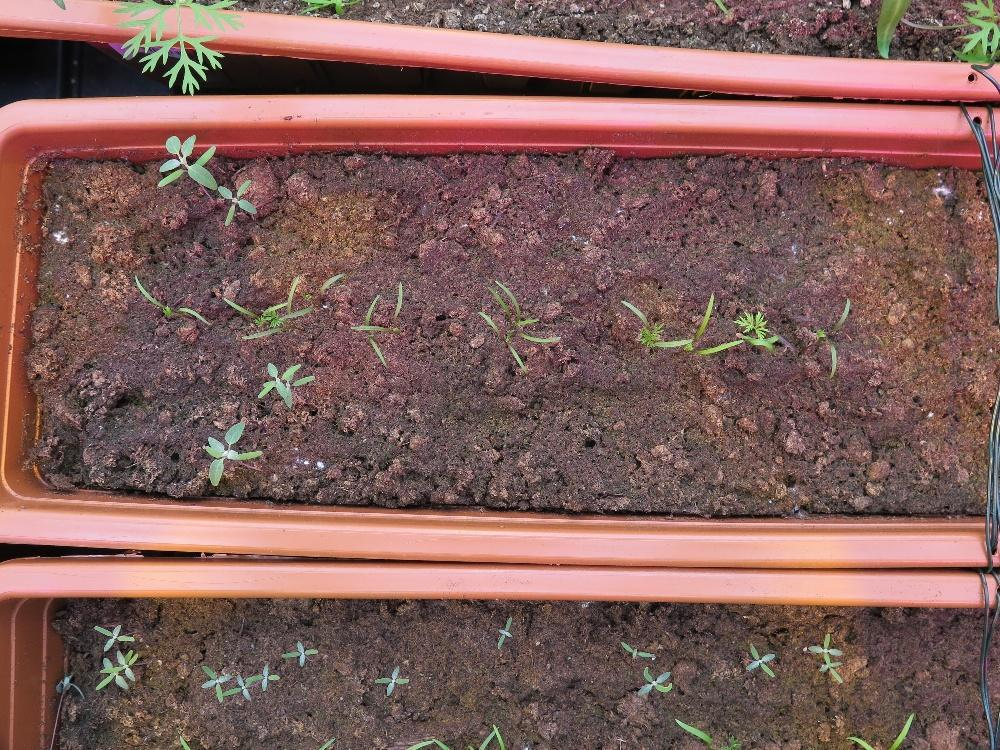weed: (217, 176, 257, 225), (635, 663, 672, 696), (372, 664, 409, 696), (92, 624, 136, 650), (744, 641, 775, 677), (279, 639, 318, 667), (618, 639, 655, 658), (495, 614, 512, 649)
